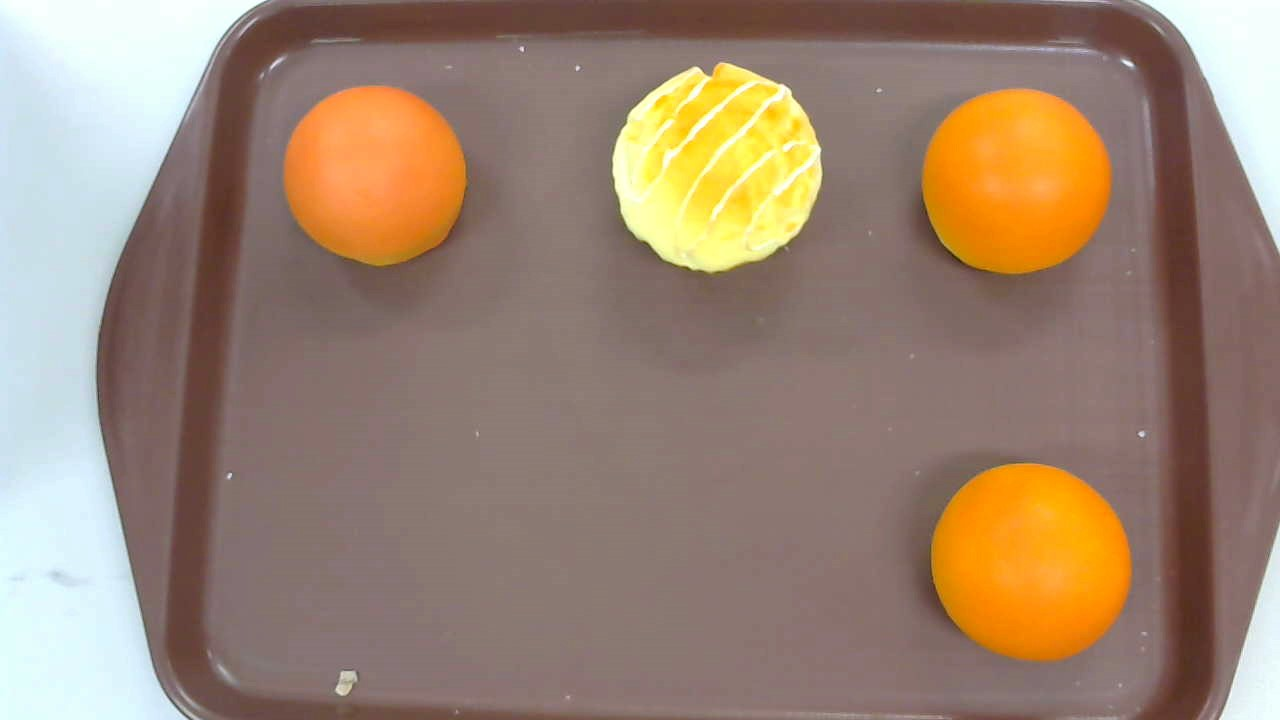bun: (931, 464, 1132, 662), (922, 87, 1112, 276), (282, 85, 466, 267)
cupcake: (612, 61, 823, 274)
